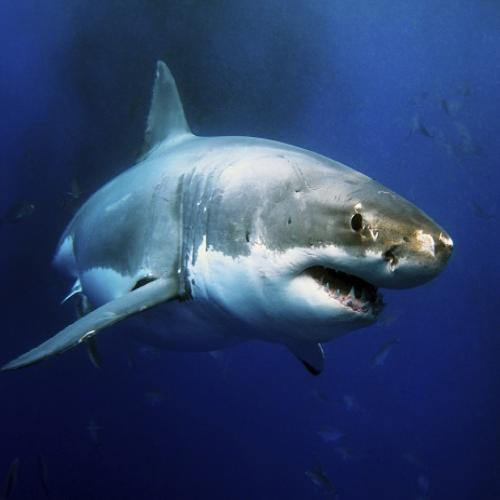shark-endangered: (49, 103, 459, 363)
